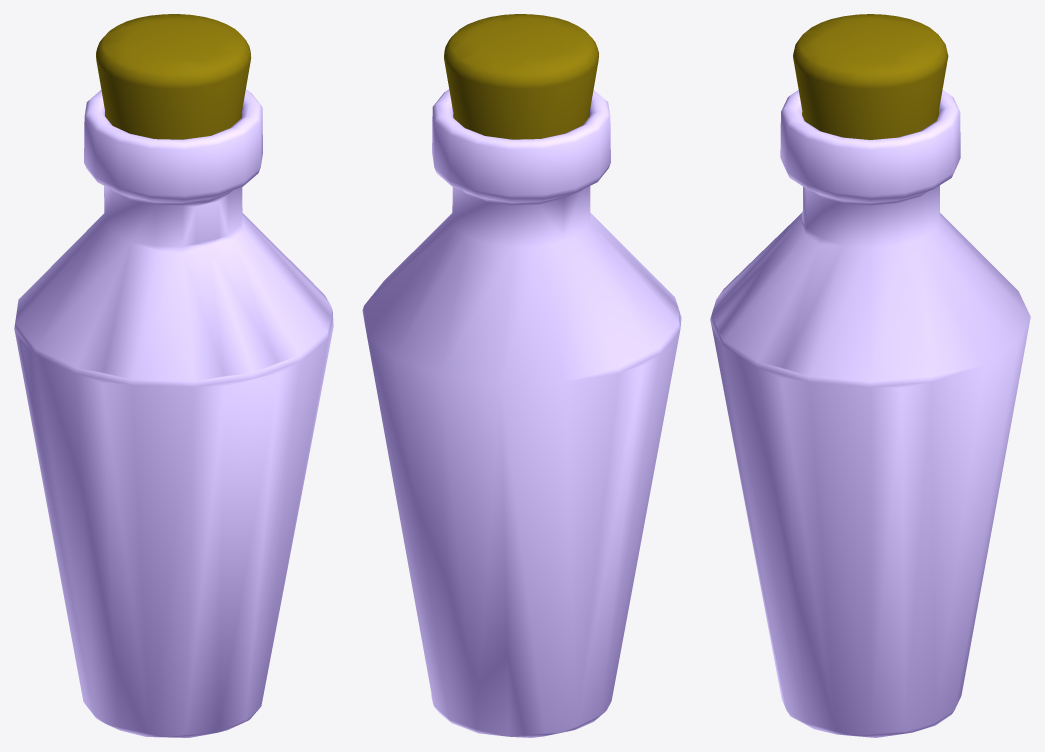
The model's file is Poison Bottle Green.fbx.
3 views of the same model, side by side, from view 1: azimuth 30°, elevation 25°; view 2: azimuth 150°, elevation 25°; view 3: azimuth 270°, elevation 25° (orthographic).
Parts seen in each view (by area): view 1: Poison Bottle, Bottle Cap; view 2: Poison Bottle, Bottle Cap; view 3: Poison Bottle, Bottle Cap.
Part boxes in pixels (bbox=[...]): Poison Bottle: bbox=[14, 89, 333, 737]; Bottle Cap: bbox=[96, 14, 251, 139]; Poison Bottle: bbox=[362, 89, 681, 737]; Bottle Cap: bbox=[444, 14, 598, 139]; Poison Bottle: bbox=[710, 90, 1030, 737]; Bottle Cap: bbox=[793, 14, 948, 139].
Size of the model in its own units: 300 by 686 by 300.
